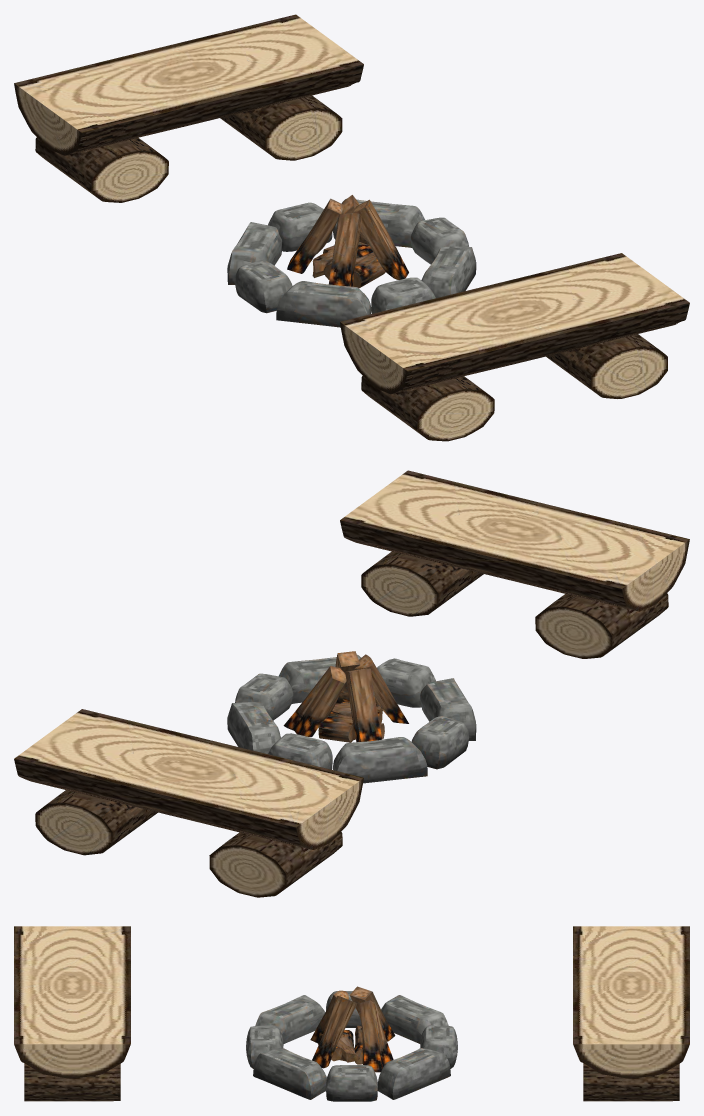
File: bonfire-CElnzKrX.glb
The picture shows the model from 3 angles, top to bottom: view 1: azimuth 30°, elevation 25°; view 2: azimuth 150°, elevation 25°; view 3: azimuth 270°, elevation 25°; orthographic projection. The views are drawn at different scales.
Visible parts, largest first — view 1: prop-bench-0, prop-bench-1, prop-bonfire; view 2: prop-bench-0, prop-bench-1, prop-bonfire; view 3: prop-bench-1, prop-bench-0, prop-bonfire.
Part boxes in pixels (<box>): prop-bench-0: <box>14,14,363,202</box>; prop-bench-1: <box>340,253,689,441</box>; prop-bonfire: <box>227,195,476,327</box>; prop-bench-0: <box>14,709,363,897</box>; prop-bench-1: <box>340,470,689,658</box>; prop-bonfire: <box>227,651,476,783</box>; prop-bench-1: <box>14,926,130,1101</box>; prop-bench-0: <box>573,926,689,1101</box>; prop-bonfire: <box>246,986,457,1101</box>.
Size of the model in its own units: 1.45 by 0.4201 by 3.51.
Materials: 3 (3 with a texture image).
